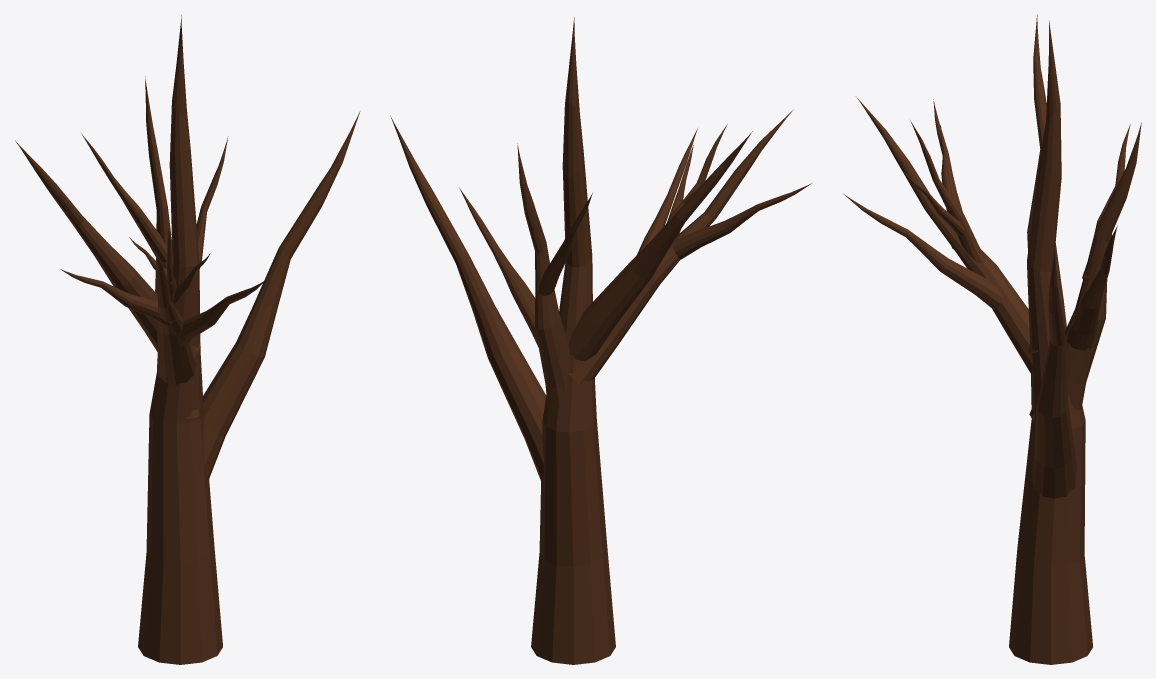
Rendered from TreeWithColour.fbx.
3 views of the same model, side by side, from view 1: azimuth 30°, elevation 25°; view 2: azimuth 150°, elevation 25°; view 3: azimuth 270°, elevation 25° (orthographic).
Parts seen in each view (by area): view 1: Cylinder; view 2: Cylinder; view 3: Cylinder.
Boxes of the visible parts, x1,y1,x2,y2 form: Cylinder: (15,15,360,664); Cylinder: (390,17,811,664); Cylinder: (843,14,1141,664).
Size of the model in its own units: 788 by 1313 by 569.
